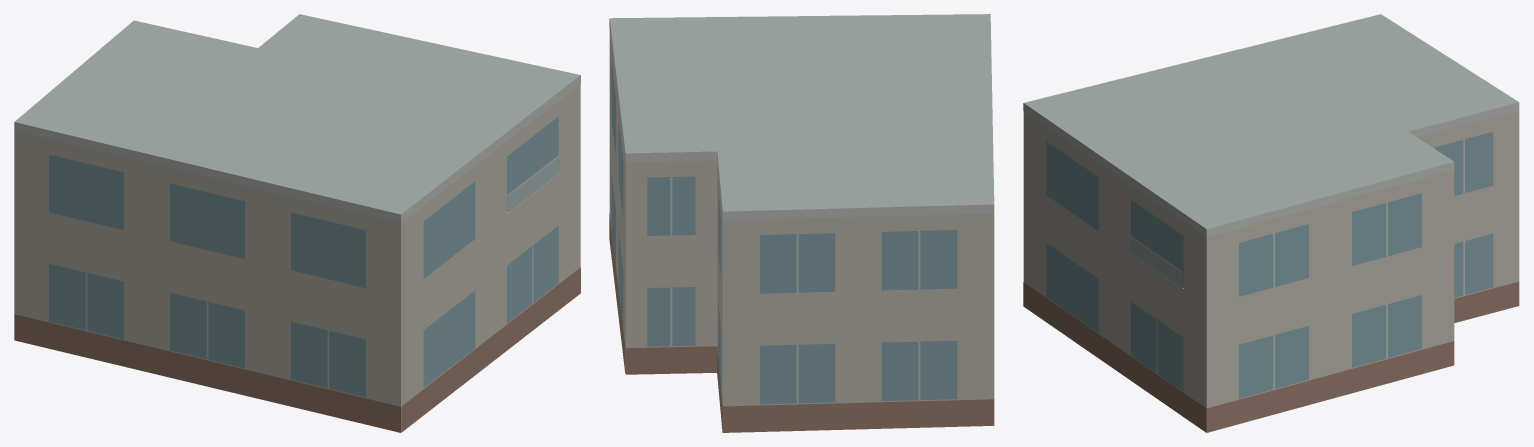
Rendered from survey-upis-32604423.glb.
3 views of the same model, side by side, from view 1: azimuth 30°, elevation 25°; view 2: azimuth 150°, elevation 25°; view 3: azimuth 270°, elevation 25° (orthographic). The views are drawn at different scales.
Visible parts, largest first — view 1: survey-upis-32604423.tmp; view 2: survey-upis-32604423.tmp; view 3: survey-upis-32604423.tmp.
Boxes of the visible parts, x1,y1,x2,y2 form: survey-upis-32604423.tmp: (14,14,580,432); survey-upis-32604423.tmp: (609,14,994,432); survey-upis-32604423.tmp: (1023,14,1519,432).
Size of the model in its own units: 13.84 by 6.1 by 13.47.
